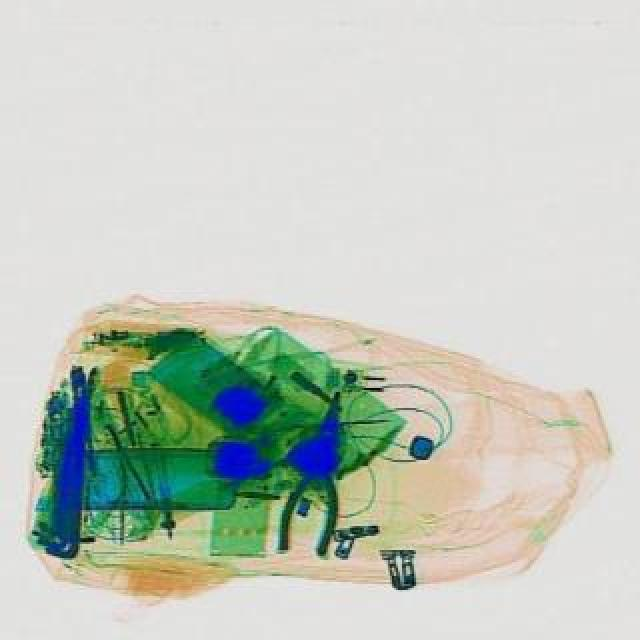wrench: (272, 384, 364, 556)
